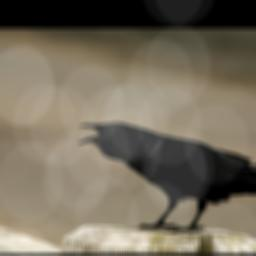Crow: (78, 122, 256, 233)
